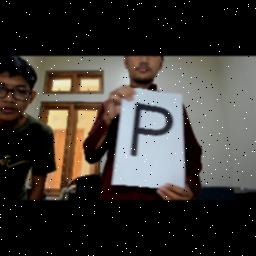p: (127, 99, 177, 159)
